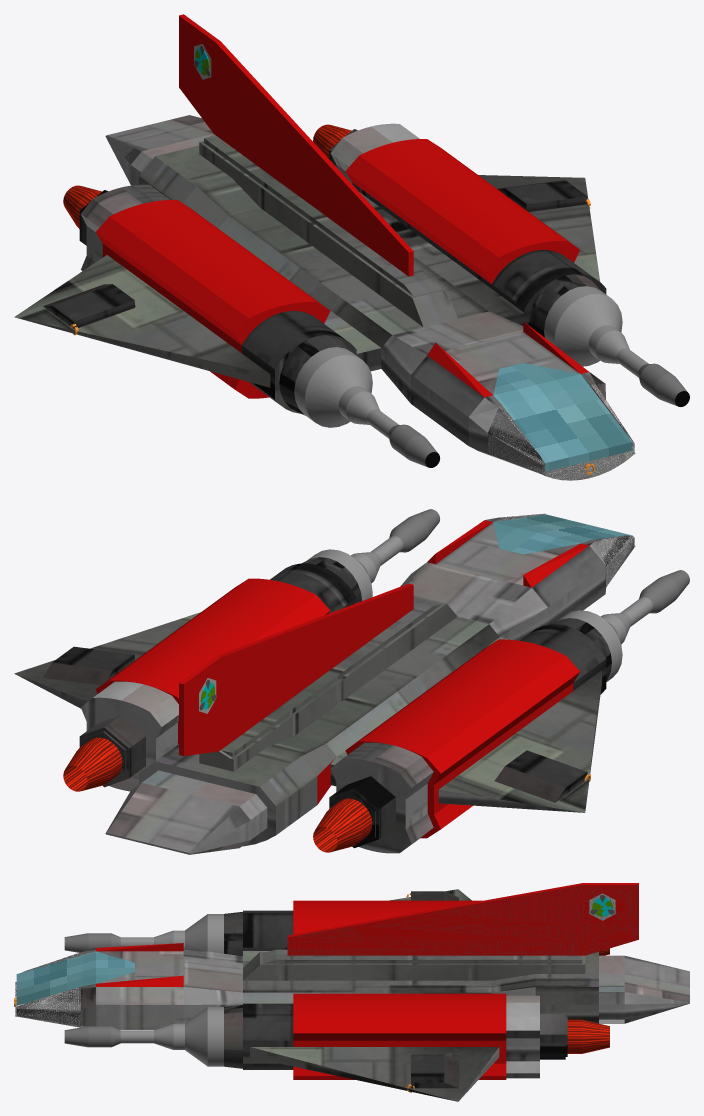
Rendered from Custom+Spaceship+-+Single+Man.dae.
3 views of the same model, one above another, from view 1: azimuth 30°, elevation 25°; view 2: azimuth 150°, elevation 25°; view 3: azimuth 270°, elevation 25° (orthographic). The views are drawn at different scales.
Parts seen in each view (by area): view 1: group_1 (×20), group_6, group_4, group_9; view 2: group_1 (×25), group_6, group_4, group_11, group_9; view 3: group_1 (×21), group_4, group_11, group_6.
Part boxes in pixels (x1,y1,x2,y2): group_1 (×20): [14, 14, 687, 480]; group_6: [43, 284, 135, 328]; group_4: [497, 180, 587, 211]; group_9: [63, 185, 101, 228]; group_1 (×25): [14, 509, 689, 854]; group_6: [494, 750, 587, 802]; group_4: [43, 646, 134, 685]; group_11: [63, 737, 122, 791]; group_9: [313, 798, 372, 852]; group_1 (×21): [15, 883, 689, 1101]; group_4: [411, 1054, 459, 1088]; group_11: [567, 1019, 609, 1053]; group_6: [411, 891, 459, 900].
Size of the model in its own units: 417 by 559 by 128.
16 materials, 5 textured.
